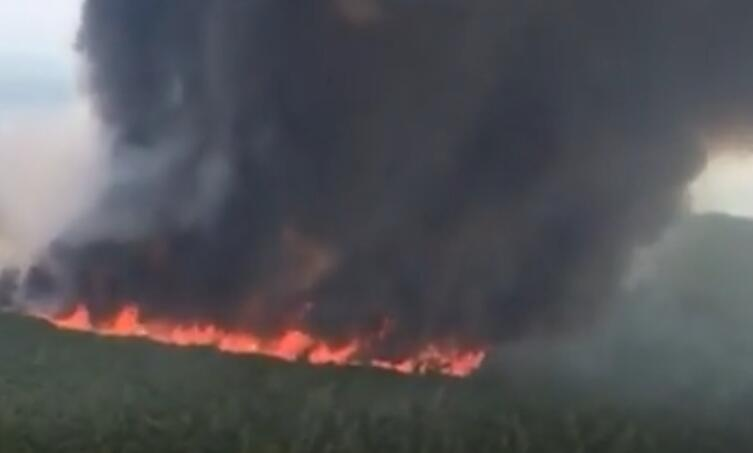fire: (22, 304, 485, 381)
yanwu: (3, 0, 753, 328)
